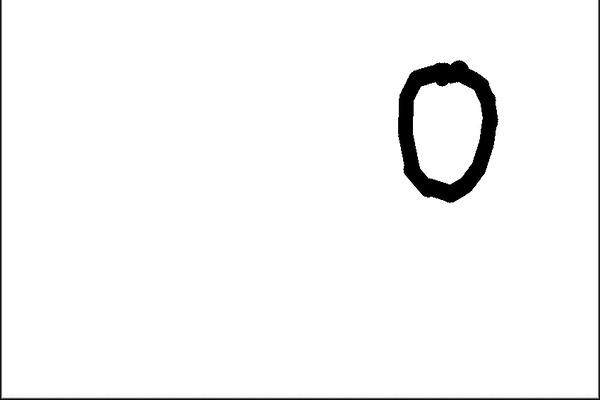O: (381, 53, 504, 205)
